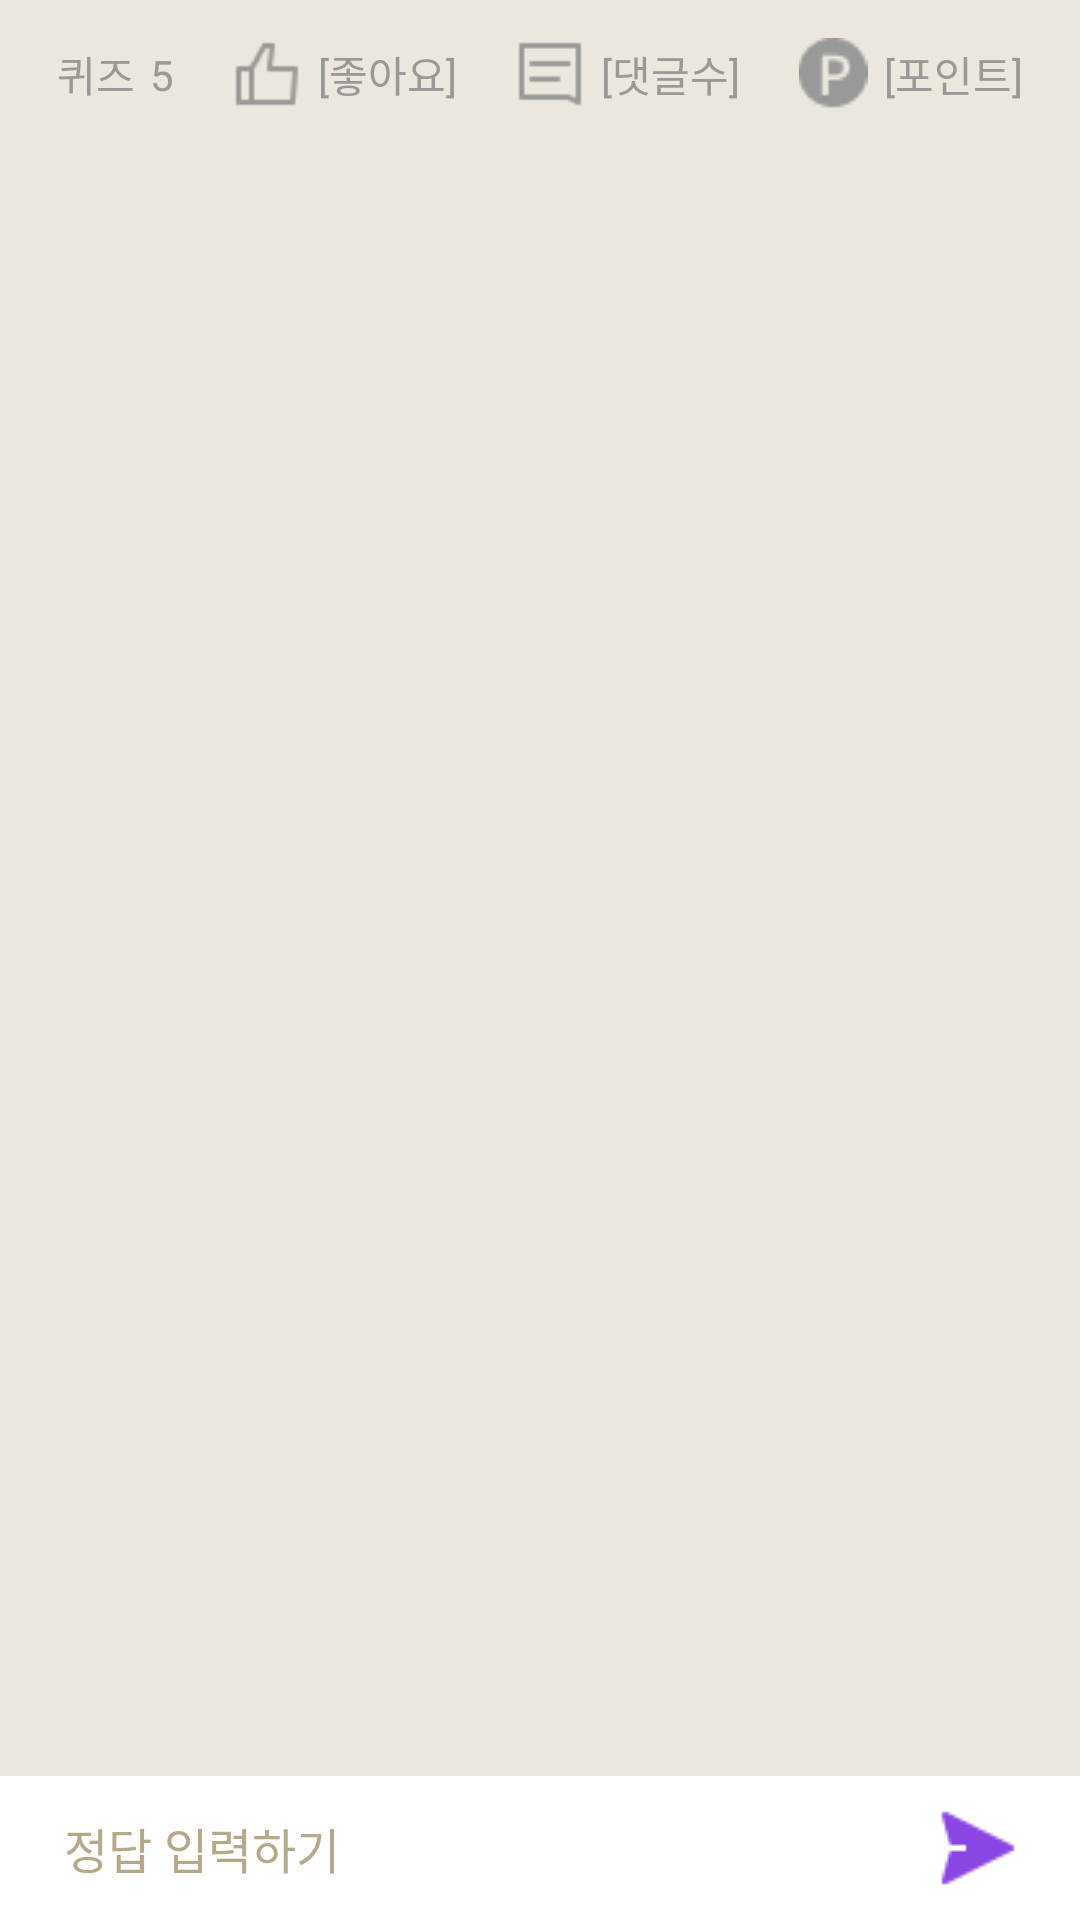

Where icons sit on this 1080*1920 app screen, as (x1, y1, x2, y2):
comment: (519, 43, 581, 105)
fav: (236, 43, 298, 105)
point: (799, 38, 868, 108)
send: (941, 1811, 1015, 1885)
